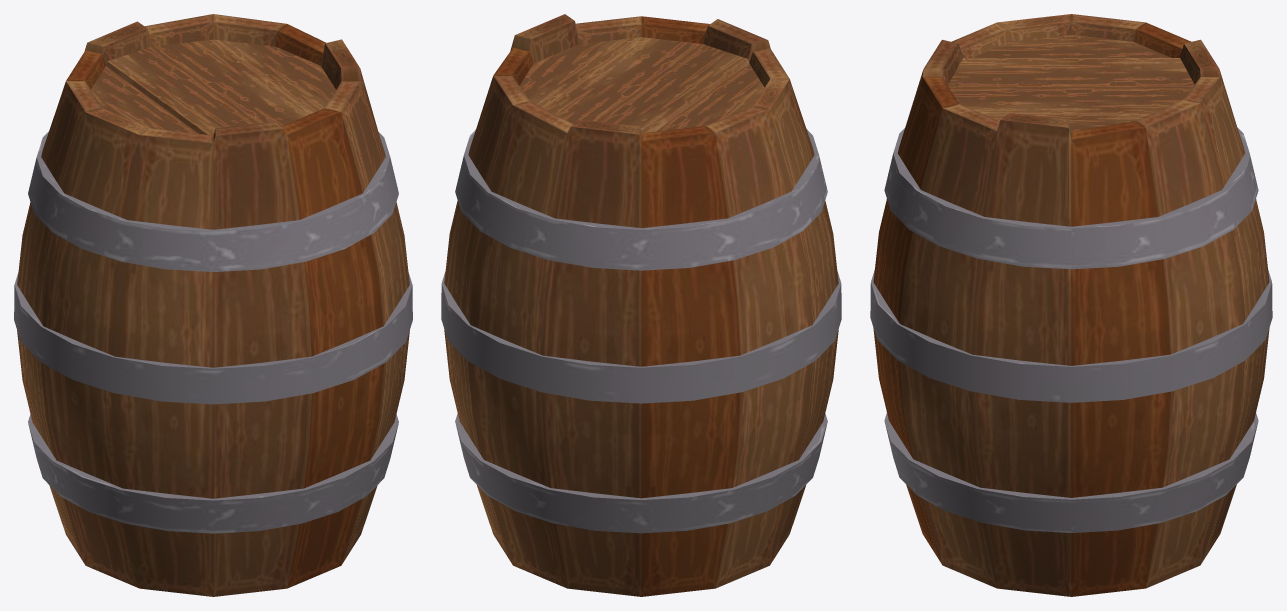
Rendered from quaternius-fantasy-props-barrel.glb.
The picture shows the model from 3 angles, left to right: view 1: azimuth 30°, elevation 25°; view 2: azimuth 150°, elevation 25°; view 3: azimuth 270°, elevation 25°; orthographic projection.
Parts seen in each view (by area): view 1: Barrel; view 2: Barrel; view 3: Barrel.
Part boxes in pixels (box(x1,y1,x2,y2)): Barrel: box(14, 14, 412, 596); Barrel: box(441, 14, 841, 596); Barrel: box(870, 14, 1272, 596).
Bounding box in the file's own units: 0.6996 × 0.9 × 0.6996.
2 materials, 2 textured.
